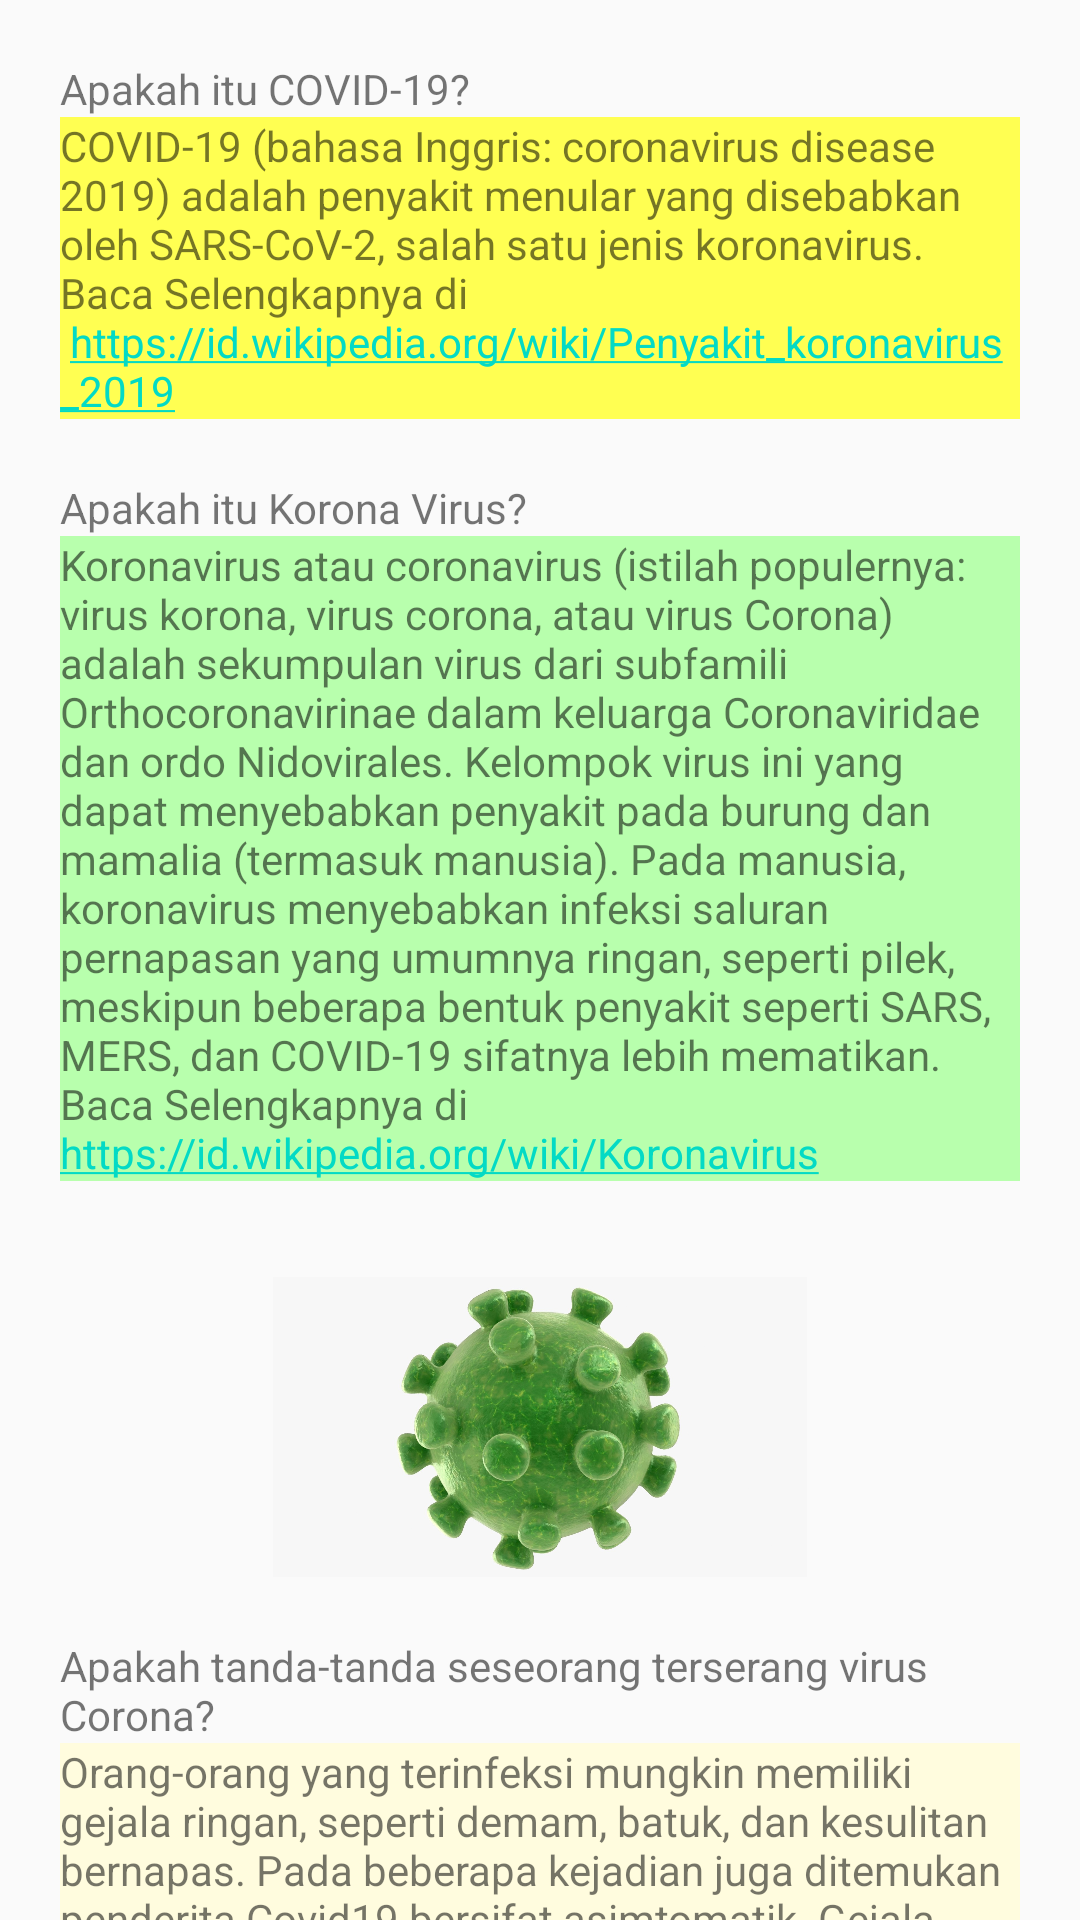

Named icons in this screenshot (1080 × 1920) and their bounding boxes, (x1, y1, x2, y2):
covid: (397, 1287, 680, 1570)
